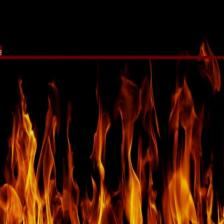fire: (0, 55, 224, 224)
